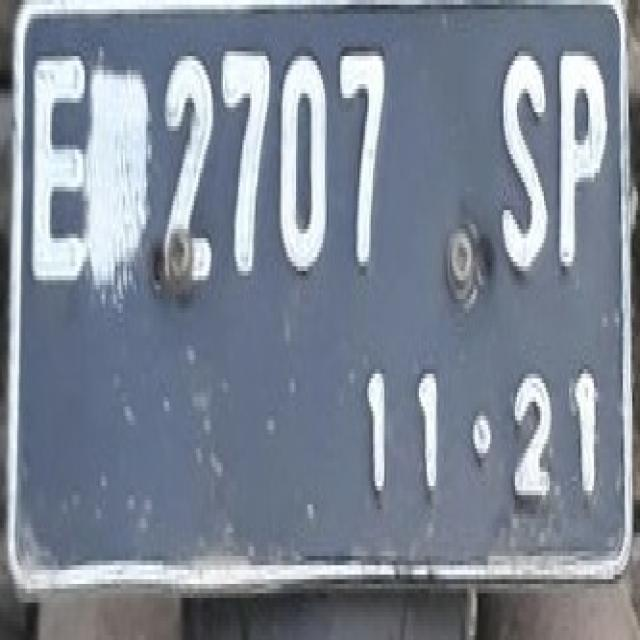plate: (10, 0, 638, 589)
